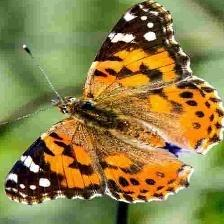butterfly: (6, 0, 224, 206)
